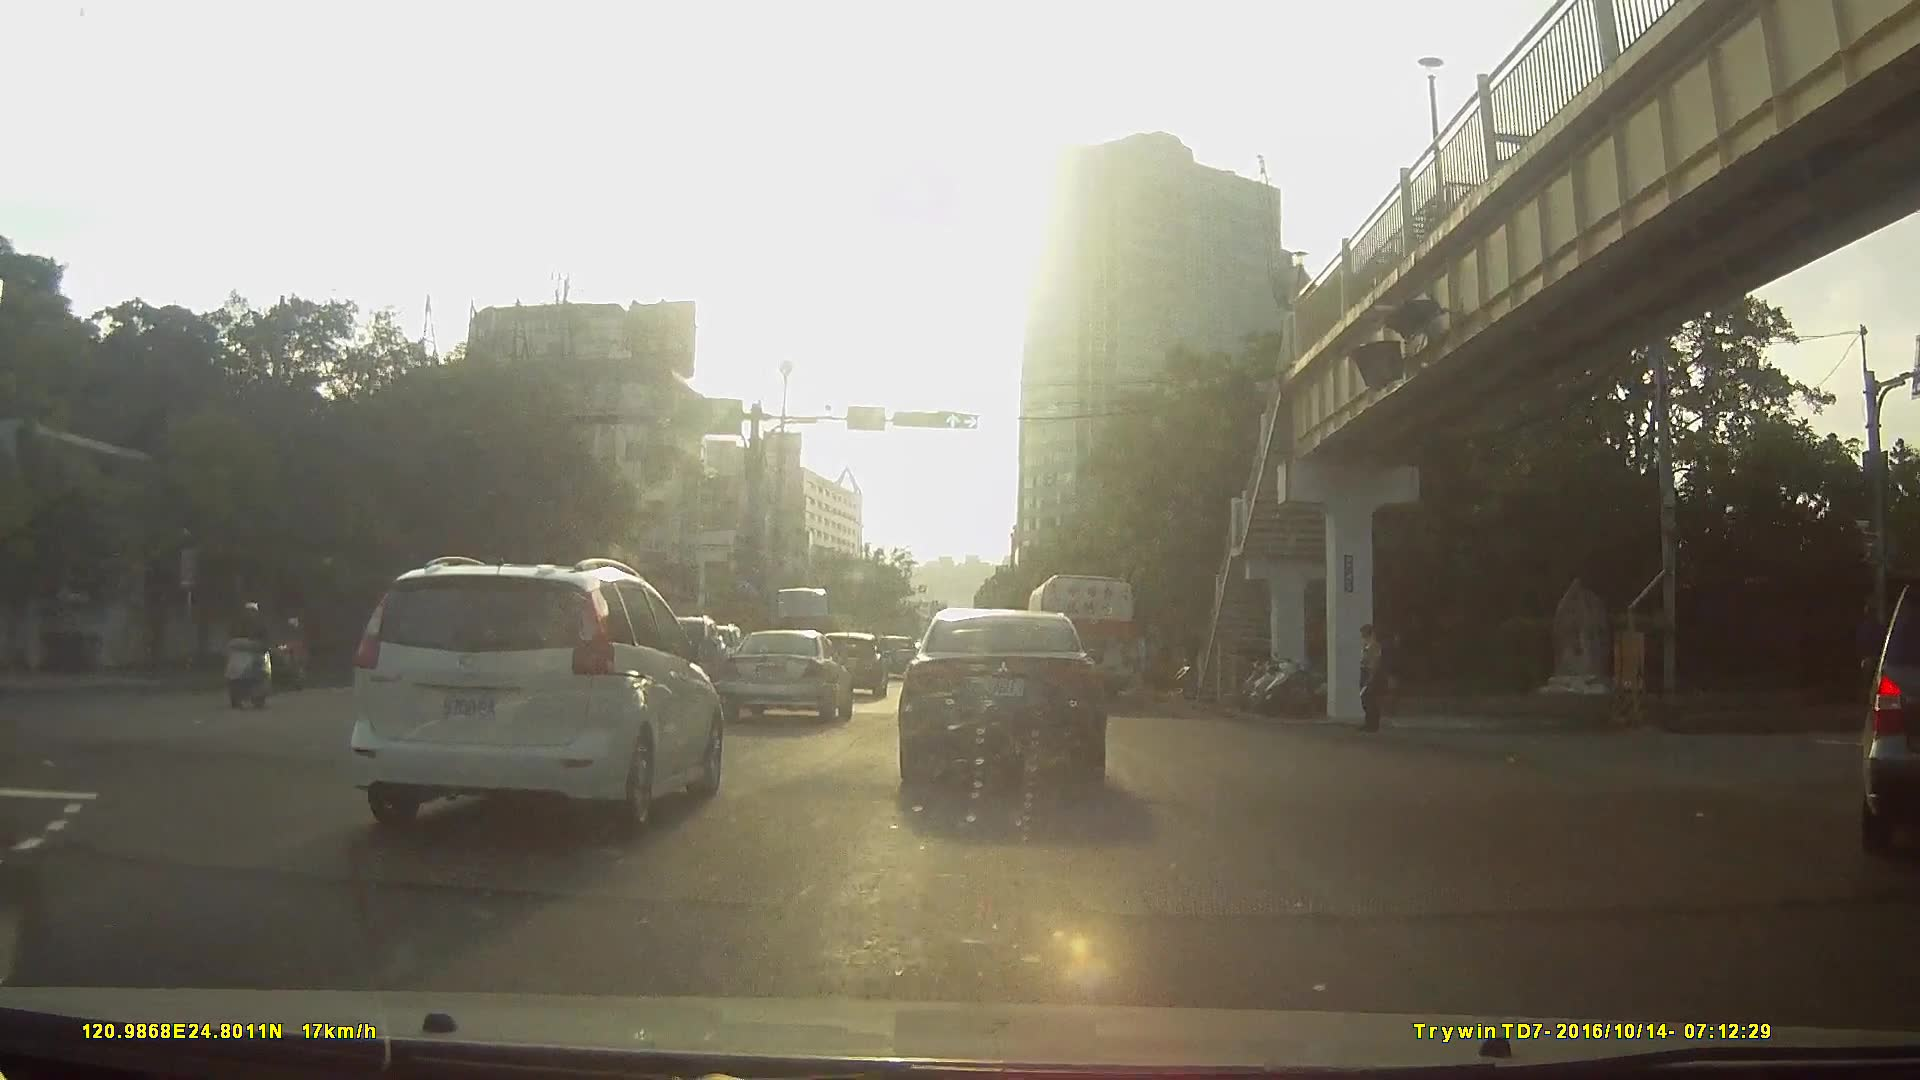pedestrian: (1352, 622, 1393, 740)
rider: (219, 601, 278, 709), (270, 617, 311, 689)
vehicle: (346, 559, 721, 842), (896, 608, 1105, 798), (1024, 577, 1131, 708), (715, 634, 853, 731), (808, 634, 880, 703), (866, 638, 915, 687)
